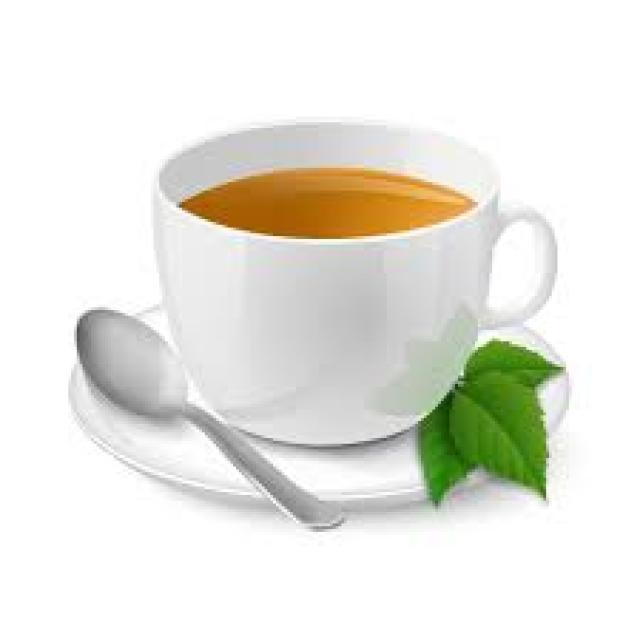taza: (136, 97, 574, 460)
